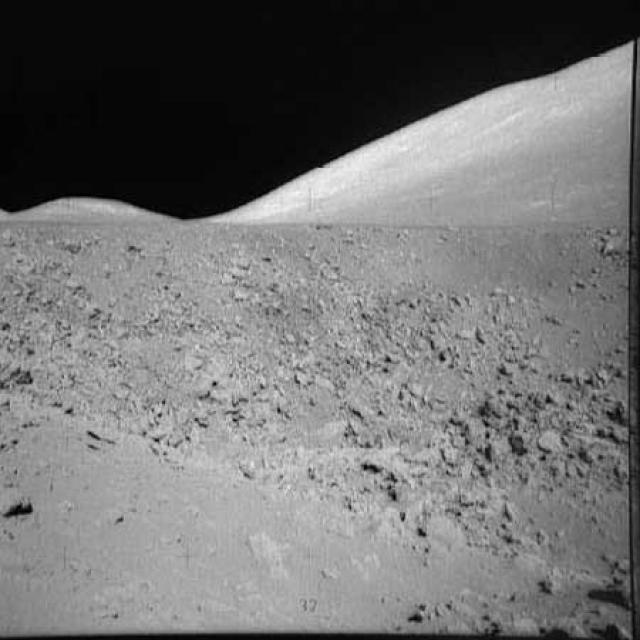crater: (53, 336, 342, 473)
rock: (360, 434, 420, 484), (0, 476, 36, 527), (479, 384, 528, 418), (0, 344, 34, 391), (596, 226, 634, 262), (531, 424, 569, 458)
